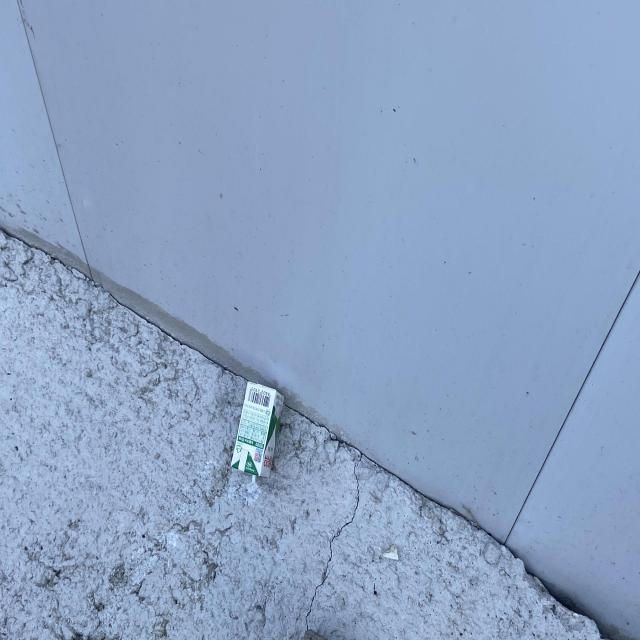paperpack: (231, 382, 284, 478)
